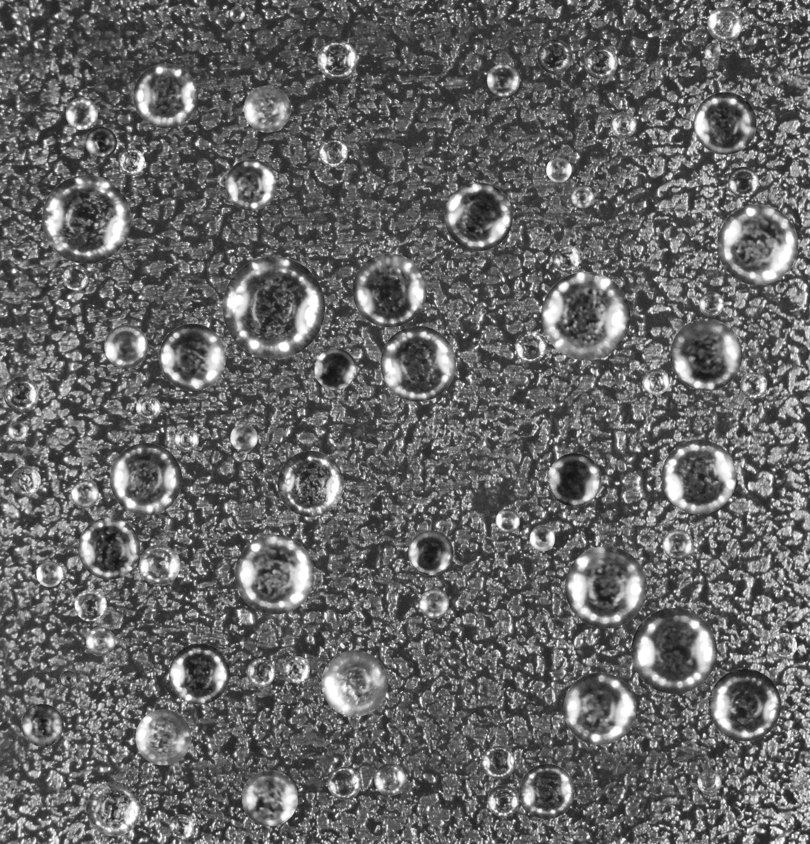Bubble: (222, 256, 325, 358), (541, 271, 630, 360), (42, 174, 130, 263), (631, 608, 717, 693), (565, 546, 647, 628), (717, 204, 798, 285), (234, 534, 314, 614), (380, 326, 455, 401), (661, 439, 736, 514), (352, 253, 426, 327), (563, 672, 636, 745), (109, 443, 182, 515), (708, 669, 781, 741), (670, 318, 742, 390), (444, 182, 512, 250), (159, 323, 225, 390), (321, 650, 387, 716), (277, 450, 343, 516), (133, 63, 197, 128), (78, 517, 140, 579), (694, 92, 756, 154), (169, 643, 229, 704), (135, 709, 191, 765), (241, 770, 297, 826), (519, 764, 574, 819), (86, 781, 140, 836), (547, 453, 601, 506), (225, 159, 276, 210), (243, 85, 290, 132), (408, 530, 453, 575), (104, 324, 147, 368), (314, 348, 356, 390), (21, 704, 63, 746), (139, 544, 180, 585), (317, 39, 357, 79), (3, 376, 38, 412), (707, 6, 742, 41), (537, 39, 572, 73), (583, 45, 617, 79), (327, 766, 360, 800), (482, 746, 515, 779), (487, 63, 519, 96), (374, 763, 406, 795), (65, 97, 97, 129), (74, 589, 106, 621), (487, 785, 519, 817), (85, 126, 116, 158), (515, 331, 546, 362), (662, 529, 693, 559), (728, 166, 758, 197), (419, 588, 449, 618), (86, 627, 115, 656), (11, 466, 40, 495), (246, 658, 275, 686), (319, 138, 347, 167), (552, 244, 580, 272), (71, 480, 98, 507), (230, 424, 257, 451), (36, 560, 62, 587), (118, 148, 144, 175), (740, 372, 767, 398), (283, 656, 309, 683), (529, 525, 555, 551), (643, 368, 669, 394), (63, 264, 88, 290), (610, 112, 636, 137), (546, 157, 571, 182), (168, 814, 193, 839), (135, 395, 160, 420), (699, 291, 724, 316), (772, 633, 797, 658), (495, 508, 520, 532), (174, 427, 198, 451), (697, 770, 721, 794), (571, 185, 593, 208), (8, 421, 27, 440), (59, 670, 76, 687), (705, 42, 721, 58), (229, 6, 245, 21), (767, 72, 781, 85)
